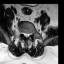CCS_stenosis: (25, 30, 27, 39)
LFS_normal: (29, 30, 31, 36)
LLS_normal: (27, 30, 29, 37)
RFS_normal: (21, 28, 23, 35)
RLS_normal: (23, 30, 25, 37)
